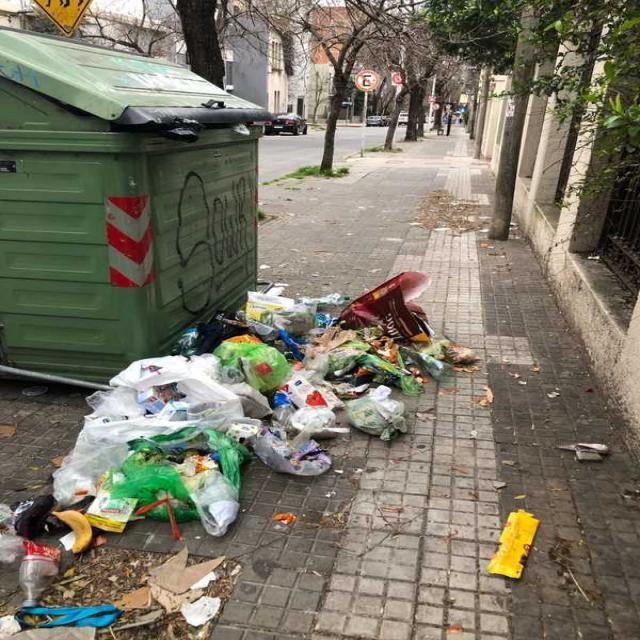garbage: (220, 235, 566, 581), (0, 388, 263, 626), (94, 343, 346, 574), (413, 183, 483, 246)
